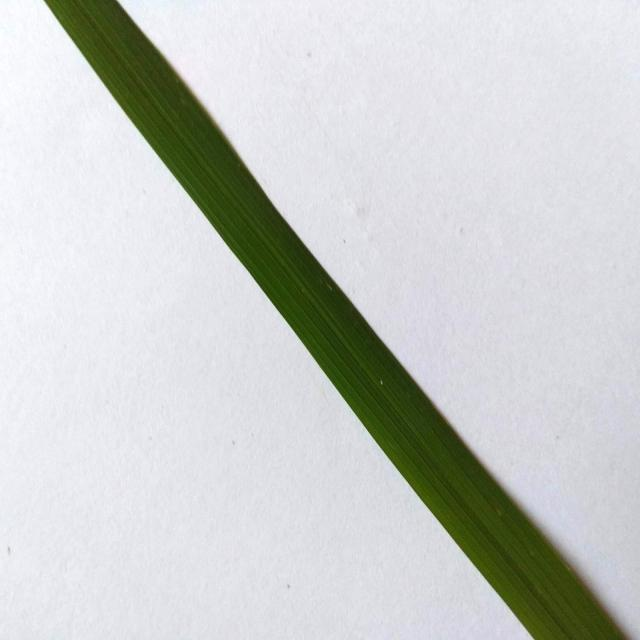healthy: (34, 0, 631, 640)
